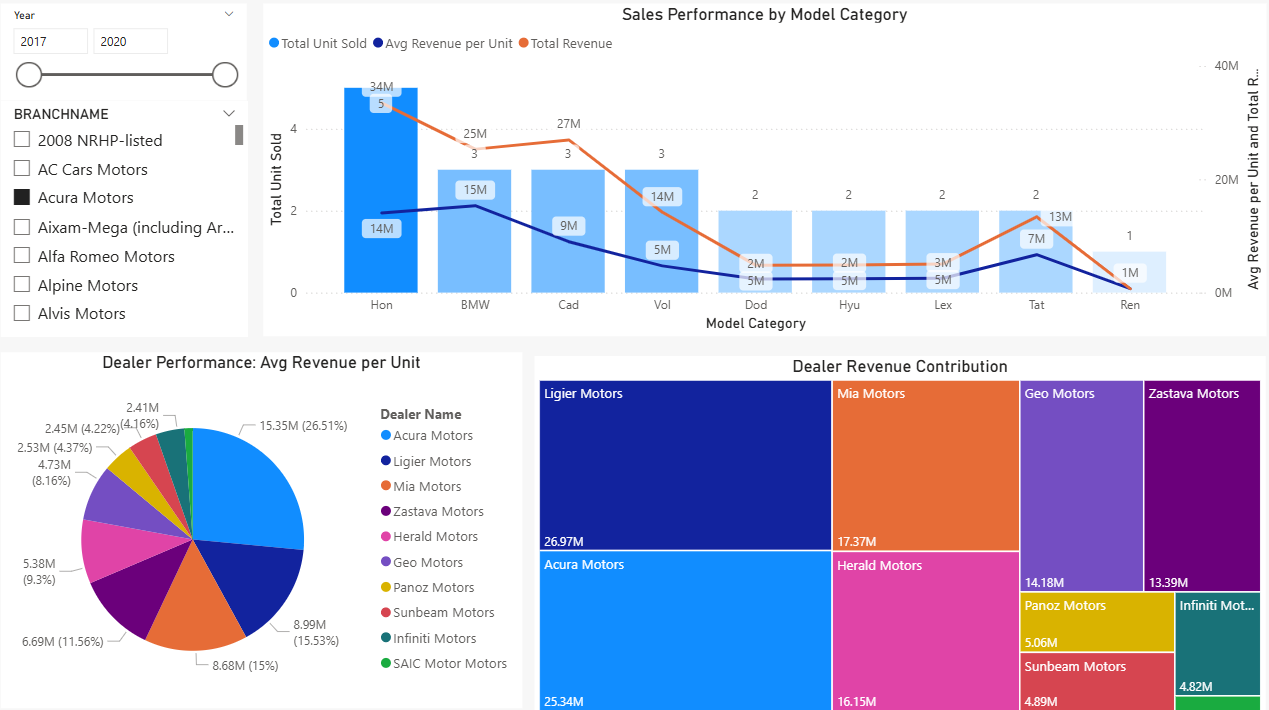

The dashboard page shown, as its layout file describes it:
{"tool":"powerbi","page":{"name":"Sales Performance","canvas":[1280,720],"ordinal":3},"visuals":[{"type":"treemap","title":"Dealer Revenue Contribution","fields":{"Group":["DM_SALES_PERFORMANCE.DEALERNAME"],"Values":["Sum(DM_SALES_PERFORMANCE.TOTAL_REVENUE)"]},"box":[537.1,360,731.4,360],"z":0},{"type":"lineClusteredColumnComboChart","title":"Sales Performance by Model Category","fields":{"Category":["DM_SALES_PERFORMANCE.MODEL_CATEGORY"],"Y":["Sum(DM_SALES_PERFORMANCE.TOTAL_UNITS_SOLD)"],"Y2":["Sum(DM_SALES_PERFORMANCE.AVG_REV_PER_UNIT)","Sum(DM_SALES_PERFORMANCE.TOTAL_REVENUE)"]},"box":[265.7,7.1,1002.9,332.9],"z":1000},{"type":"slicer","fields":{"Values":["DM_SALES_PERFORMANCE.FULL_DATE.Variation.Date Hierarchy.Year"]},"box":[4.3,7,245.7,97.1],"z":2000,"group":"g2"},{"type":"pieChart","title":"Dealer Performance: Avg Revenue per Unit","fields":{"Y":["Sum(DM_SALES_PERFORMANCE.AVG_REV_PER_UNIT)"],"Category":["DM_SALES_PERFORMANCE.DEALERNAME"]},"box":[4.3,355.7,521.4,355.7],"z":3000},{"type":"slicer","fields":{"Values":["DM_SALES_PERFORMANCE.BRANCHNAME"]},"box":[4.3,104.1,247.1,235.7],"z":4000,"group":"g2"},{"type":"group","id":"g1","title":"Group 1","box":[4.3,7,247.1,332.9],"z":4001},{"type":"group","id":"g2","title":"Group 2","box":[4.3,7,247.1,332.9],"z":4002,"group":"g1"}]}

Visuals, with their boxes in screenshot pixels (x1, y1, x2, y2), scaled from the page's 1280x720 canvas onto the 1269x710 screenshot:
"Dealer Revenue Contribution" treemap: 532:355:1258:709
"Sales Performance by Model Category" lineClusteredColumnComboChart: 263:7:1258:335
slicer - DM_SALES_PERFORMANCE.FULL_DATE.Variation.Date Hierarchy.Year: 4:7:248:103
"Dealer Performance: Avg Revenue per Unit" pieChart: 4:351:521:702
slicer - DM_SALES_PERFORMANCE.BRANCHNAME: 4:103:249:335
"Group 1" group: 4:7:249:335
"Group 2" group: 4:7:249:335
